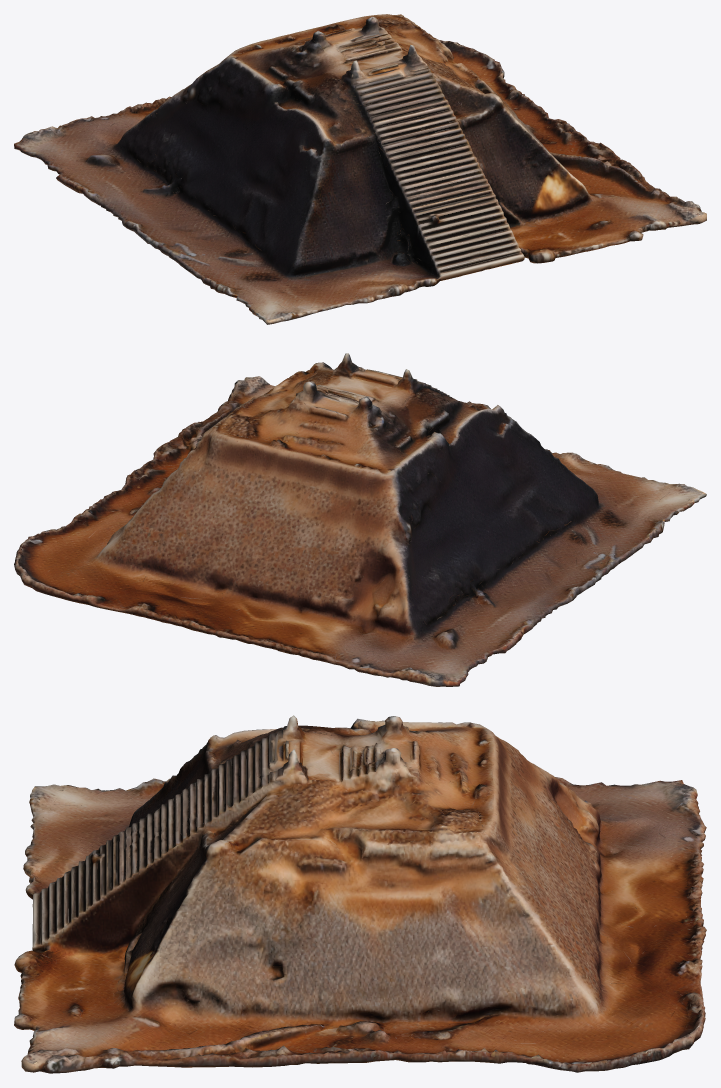
File: Ancient_Pyramid_Ruins.glb
3 renders of one model, top to bottom at view 1: azimuth 30°, elevation 25°; view 2: azimuth 150°, elevation 25°; view 3: azimuth 270°, elevation 25°, orthographic. The views are drawn at different scales.
Visible parts, largest first — view 1: Mesh_0; view 2: Mesh_0; view 3: Mesh_0.
Boxes of the visible parts, bbox=[...] form: Mesh_0: bbox=[14, 14, 706, 324]; Mesh_0: bbox=[14, 353, 706, 686]; Mesh_0: bbox=[14, 715, 706, 1073].
Bounding box in the file's own units: 18.53 × 6 × 18.62.
1 material, 1 textured.
